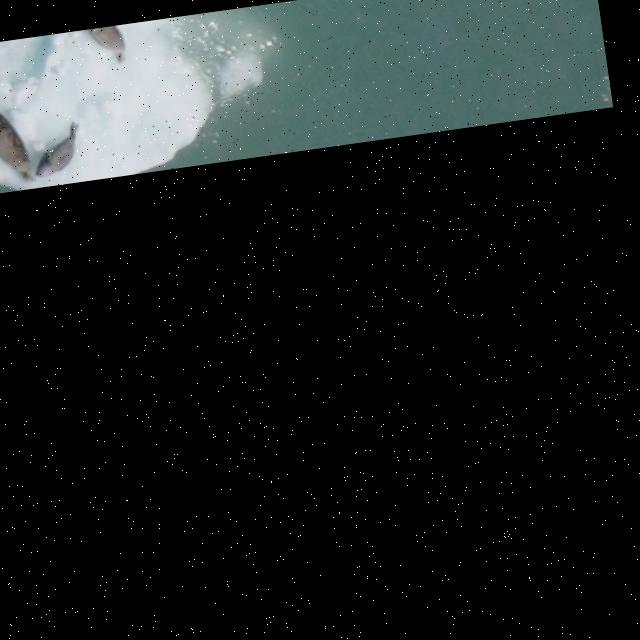seal: (27, 122, 94, 188), (0, 108, 35, 188)
